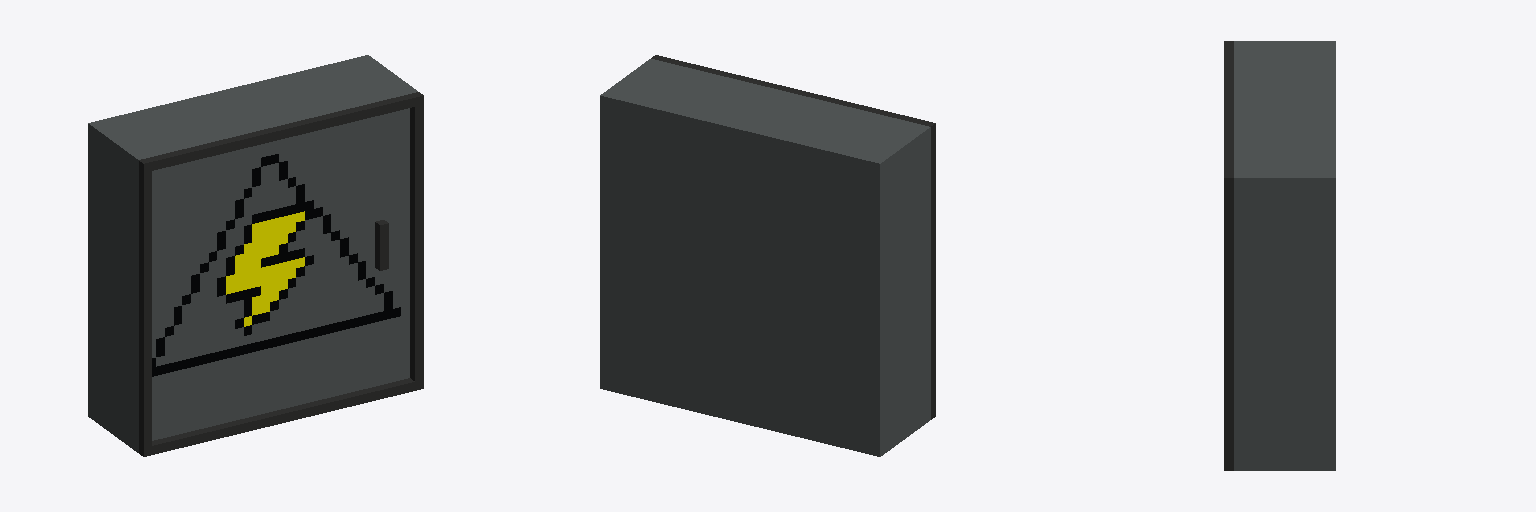
3 renders of one model, left to right at view 1: azimuth 30°, elevation 25°; view 2: azimuth 150°, elevation 25°; view 3: azimuth 270°, elevation 25°, orthographic.
Visible parts, largest first — view 1: object 1; view 2: object 1; view 3: object 1.
Boxes of the visible parts, box(x1,y1,x2,y2) form: object 1: box(88, 55, 423, 456); object 1: box(600, 55, 935, 456); object 1: box(1224, 41, 1335, 470).
Bounding box in the file's own units: 3.2 × 3.2 × 1.1.
Materials: 1 (1 with a texture image).